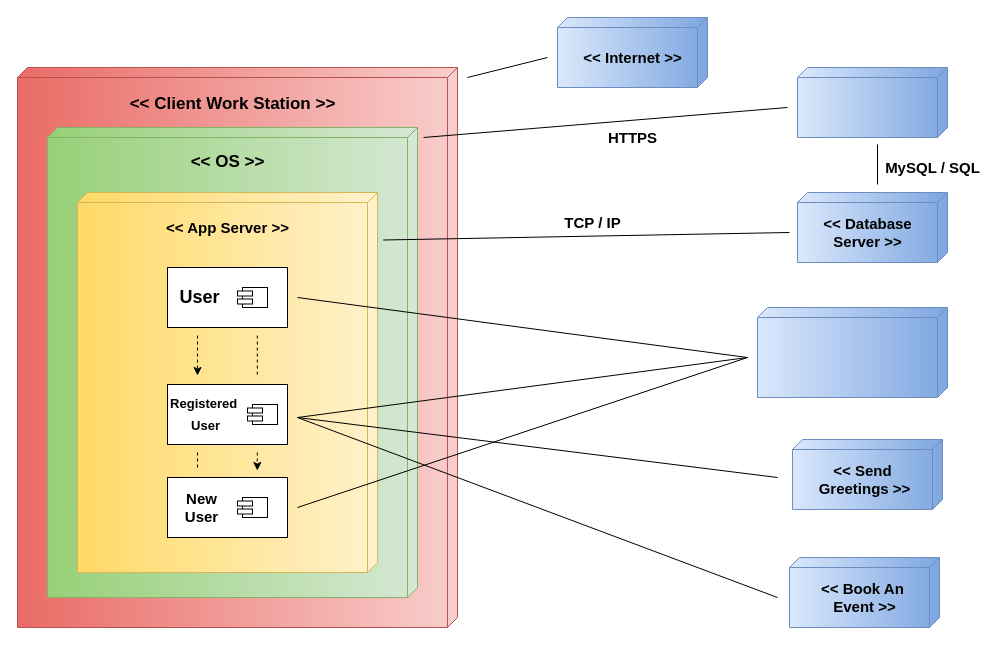
This 1005x645 diagram has some shape labels left out. The shapes that lost their labels are listed below. From the top down, each one's centre as x and y in pixels, then its label:
(x=872, y=102): << Browser >>
(x=852, y=352): << View Items >> << Create Account >>
